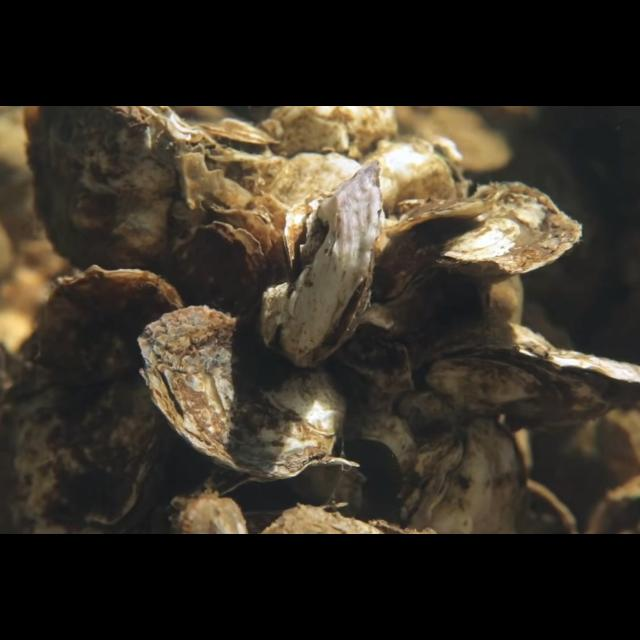Oyster-Closed: (3, 265, 185, 535), (136, 304, 352, 482), (23, 106, 225, 288), (375, 182, 583, 310), (259, 159, 383, 371), (392, 416, 528, 534), (168, 220, 268, 324)
Oyster-Open: (408, 318, 640, 432), (217, 456, 361, 516)
